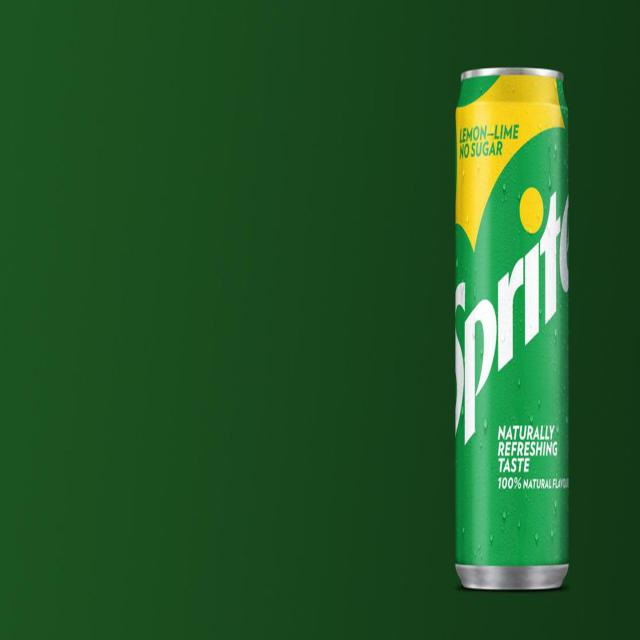sprite: (446, 60, 582, 606)
